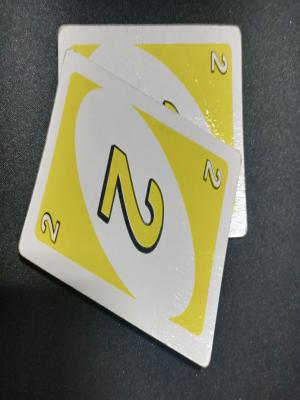num_2: (94, 126, 181, 271), (129, 43, 232, 98), (36, 203, 74, 259)
yellow: (194, 151, 225, 215)
